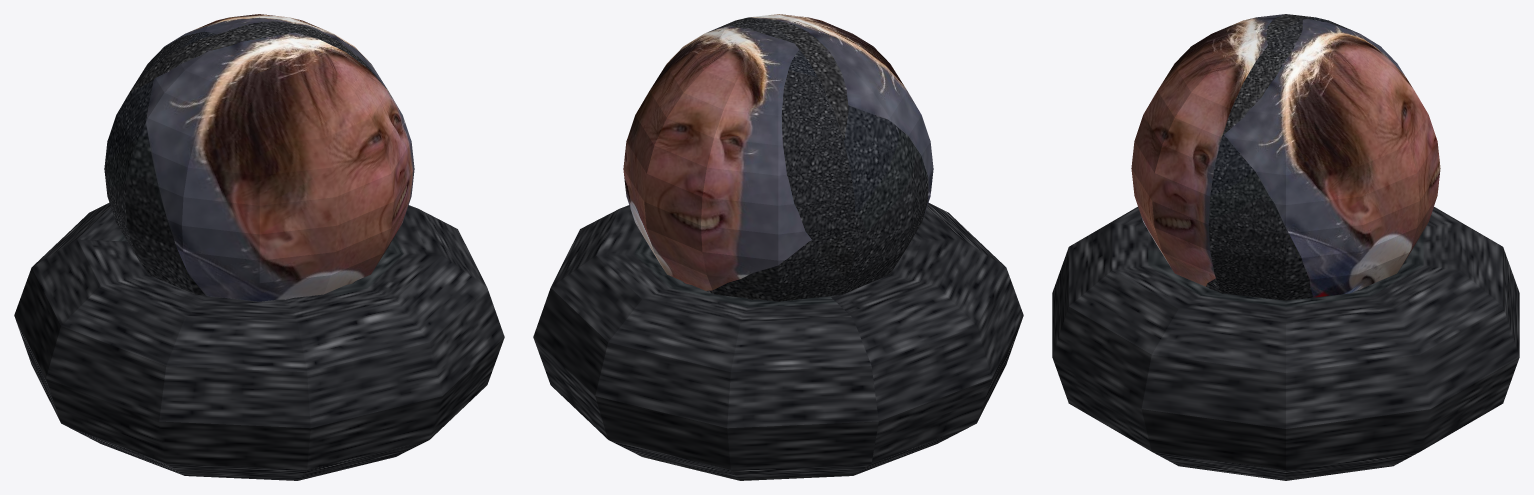
Rendered from birdman.fbx.
3 renders of one model, left to right at view 1: azimuth 30°, elevation 25°; view 2: azimuth 150°, elevation 25°; view 3: azimuth 270°, elevation 25°, orthographic.
Parts seen in each view (by area): view 1: Torus, Sphere; view 2: Torus, Sphere; view 3: Torus, Sphere.
Part boxes in pixels (bbox=[...]): Torus: bbox=[14, 202, 504, 480]; Sphere: bbox=[104, 14, 414, 301]; Torus: bbox=[533, 202, 1023, 480]; Sphere: bbox=[623, 14, 933, 301]; Torus: bbox=[1052, 207, 1519, 480]; Sphere: bbox=[1131, 14, 1440, 300].
Bounding box in the file's own units: 318 × 268 × 302.
